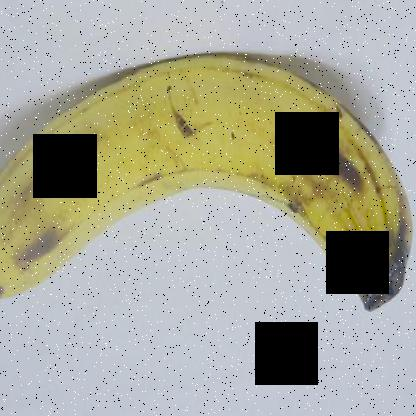ripe: (1, 30, 415, 350)
